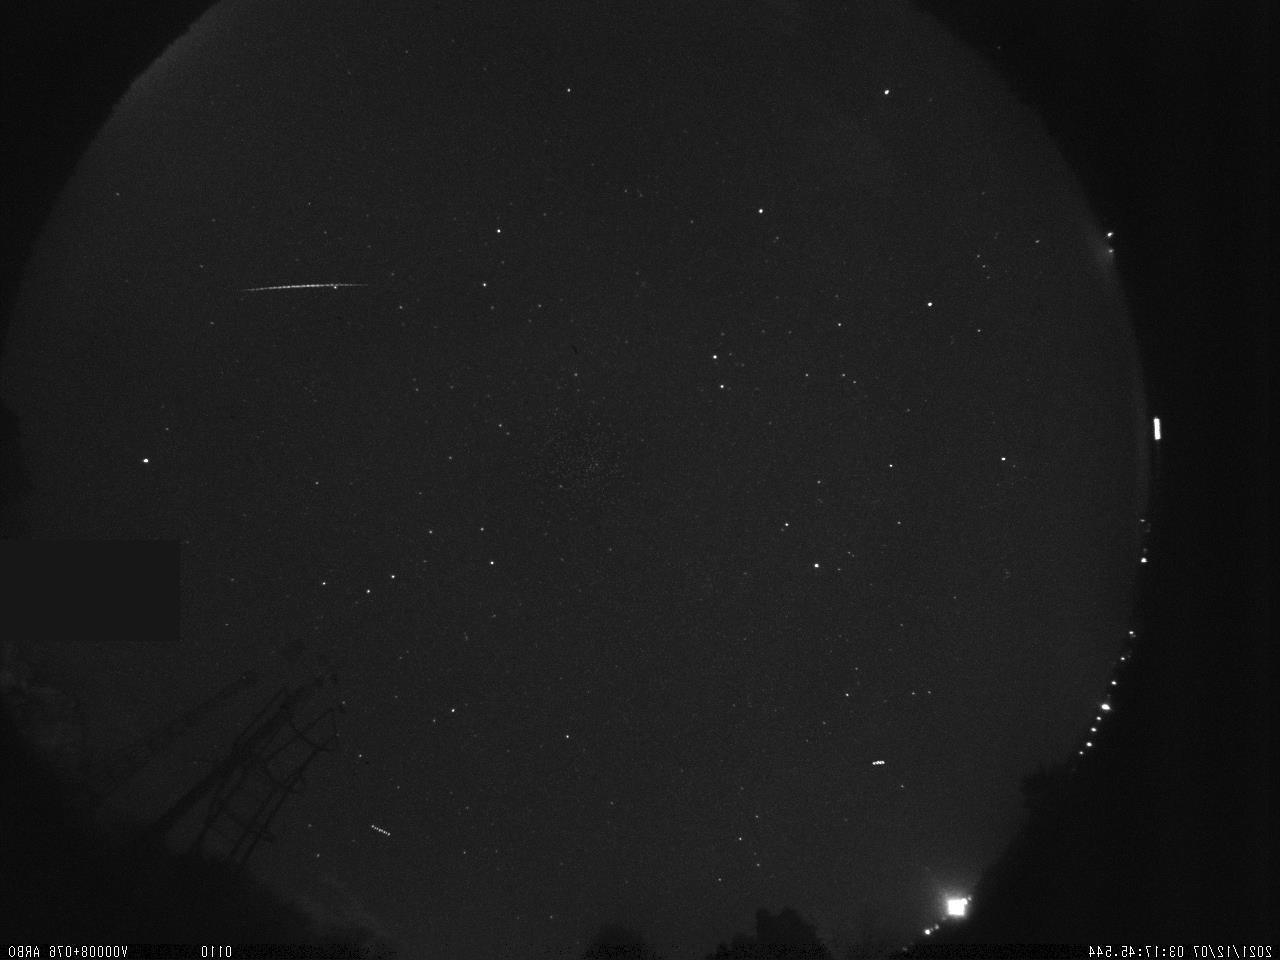meteor: (234, 275, 363, 301)
